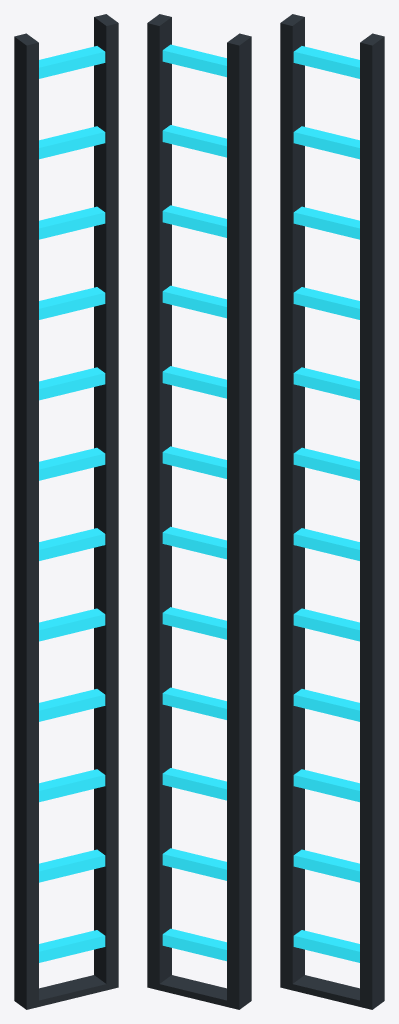
The model's file is mesh_ladder_strip.glb.
3 views of the same model, side by side, from view 1: azimuth 30°, elevation 25°; view 2: azimuth 150°, elevation 25°; view 3: azimuth 330°, elevation 25° (orthographic).
Parts seen in each view (by area): view 1: rails, rungs; view 2: rails, rungs; view 3: rails, rungs.
Boxes of the visible parts, x1,y1,x2,y2 form: rails: (14,14,118,1009); rungs: (39,46,105,962); rails: (147,14,251,1009); rungs: (162,44,226,961); rails: (280,14,384,1009); rungs: (293,46,359,962).
Bounding box in the file's own units: 0.3 × 3 × 0.07.
